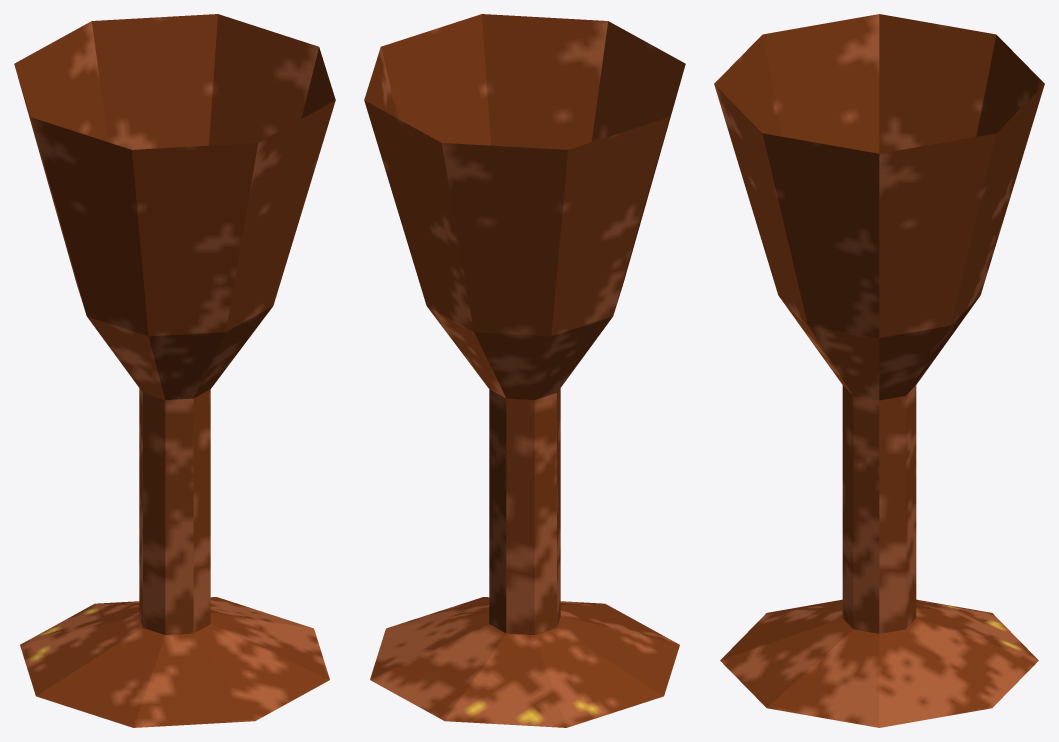
File: SM_Dungeon_Cup_Chalice.fbx
3 renders of one model, left to right at view 1: azimuth 30°, elevation 25°; view 2: azimuth 150°, elevation 25°; view 3: azimuth 270°, elevation 25°, orthographic.
Parts seen in each view (by area): view 1: SM_Dungeon_Cup_Chalice; view 2: SM_Dungeon_Cup_Chalice; view 3: SM_Dungeon_Cup_Chalice.
Boxes of the visible parts, box(x1,y1,x2,y2) form: SM_Dungeon_Cup_Chalice: box(14, 14, 335, 727); SM_Dungeon_Cup_Chalice: box(364, 14, 685, 727); SM_Dungeon_Cup_Chalice: box(714, 14, 1044, 727).
Size of the model in its own units: 12.4 by 23.85 by 12.4.
